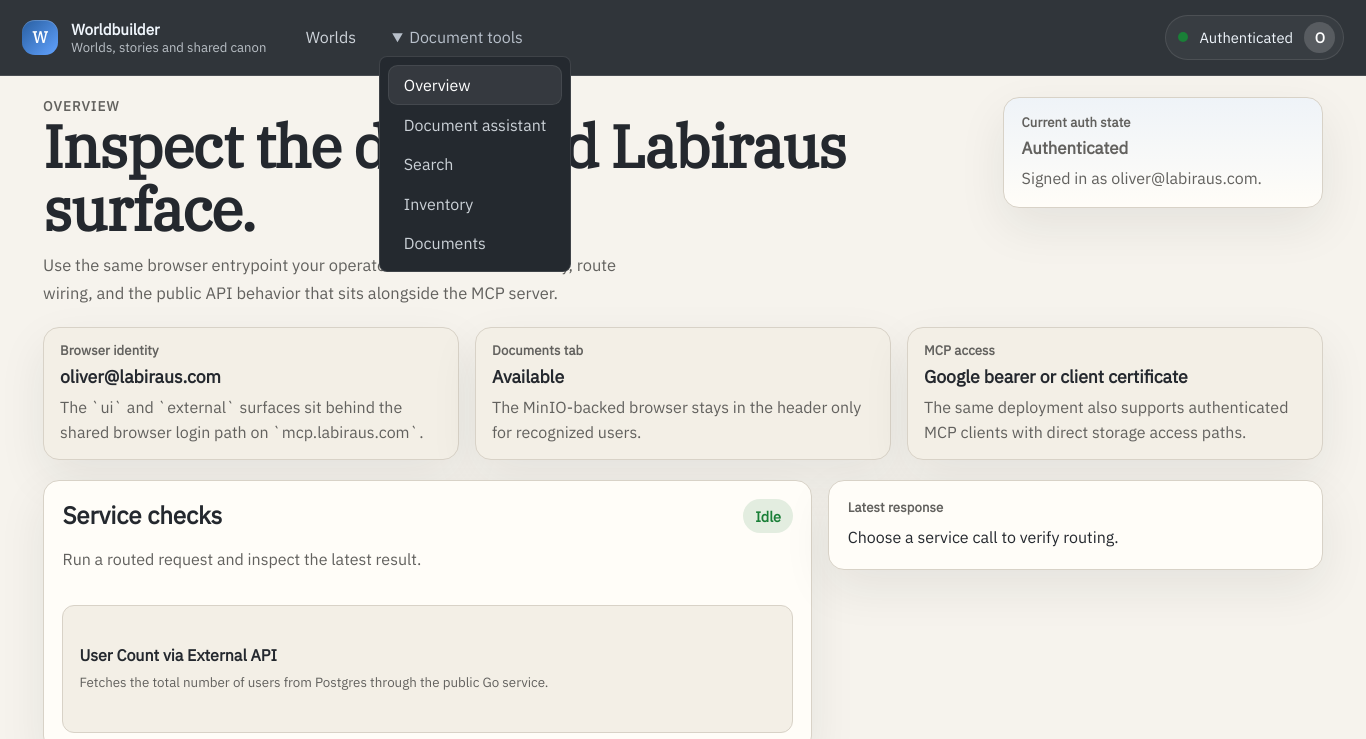
App › rejects an assistant file proposal with an audit reason
The image size is (1366, 739).
Click the button "Document assistant" at (475, 125), box [388,105,562,144]
(page scrolled)
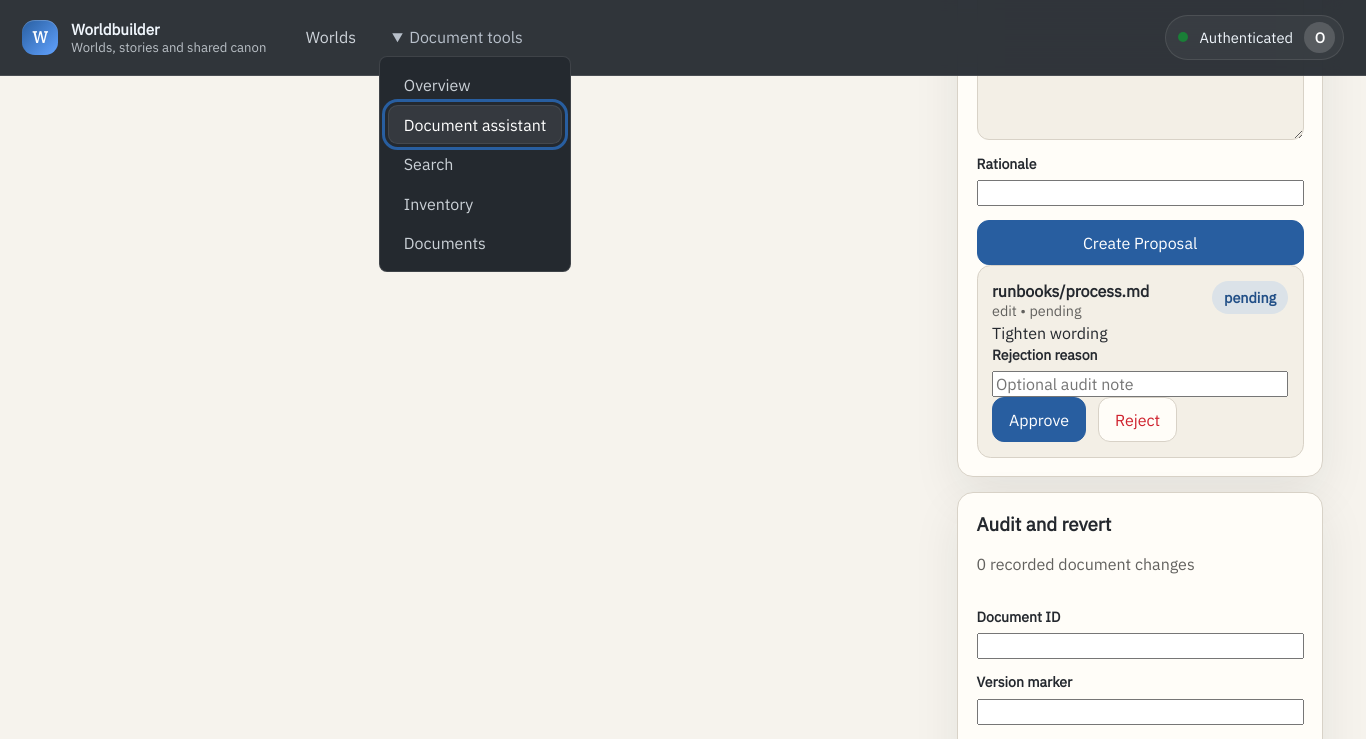
Expected: the text "Tighten wording" is shown, [992,323,1108,343]
Type "needs source context" into the field named "rejection reason for runbooks/process.md" at (1140, 384), box [992,371,1288,397]
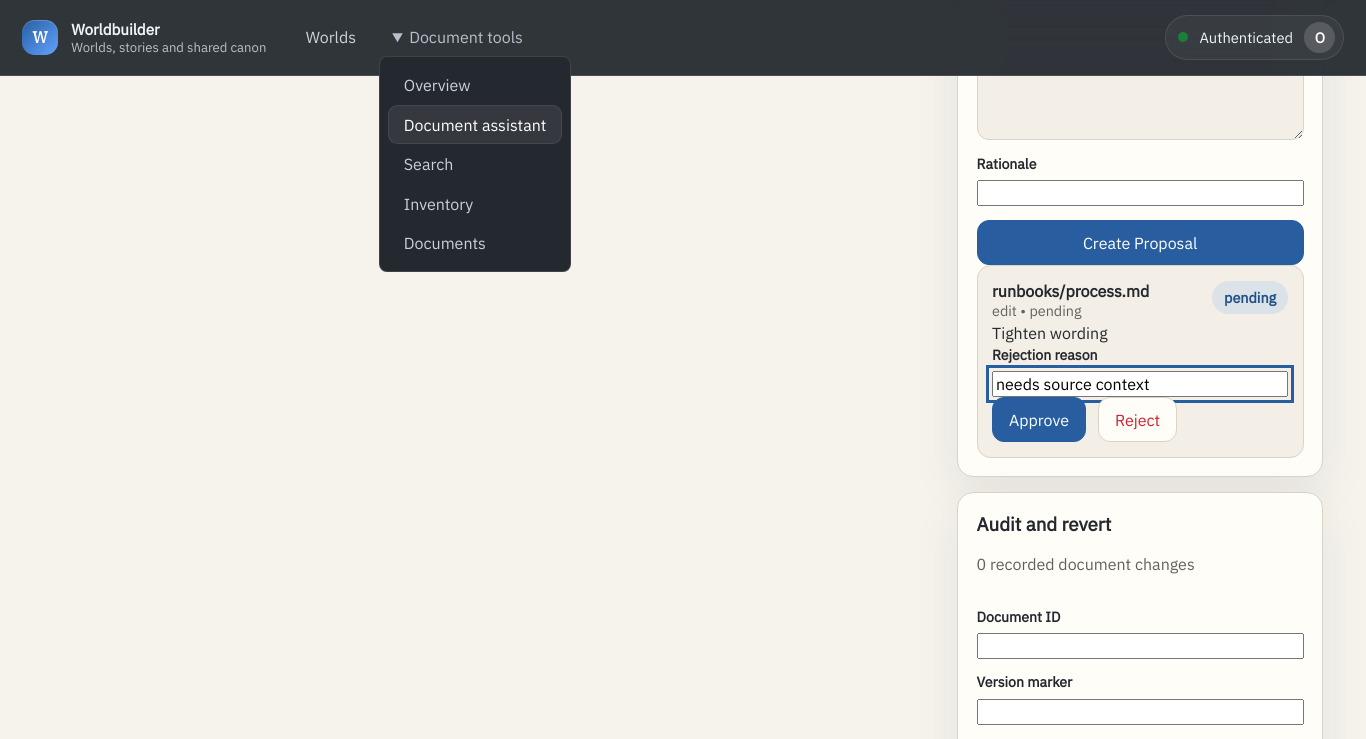
Click the button "Reject" at (1138, 420), box [1098,397,1177,442]
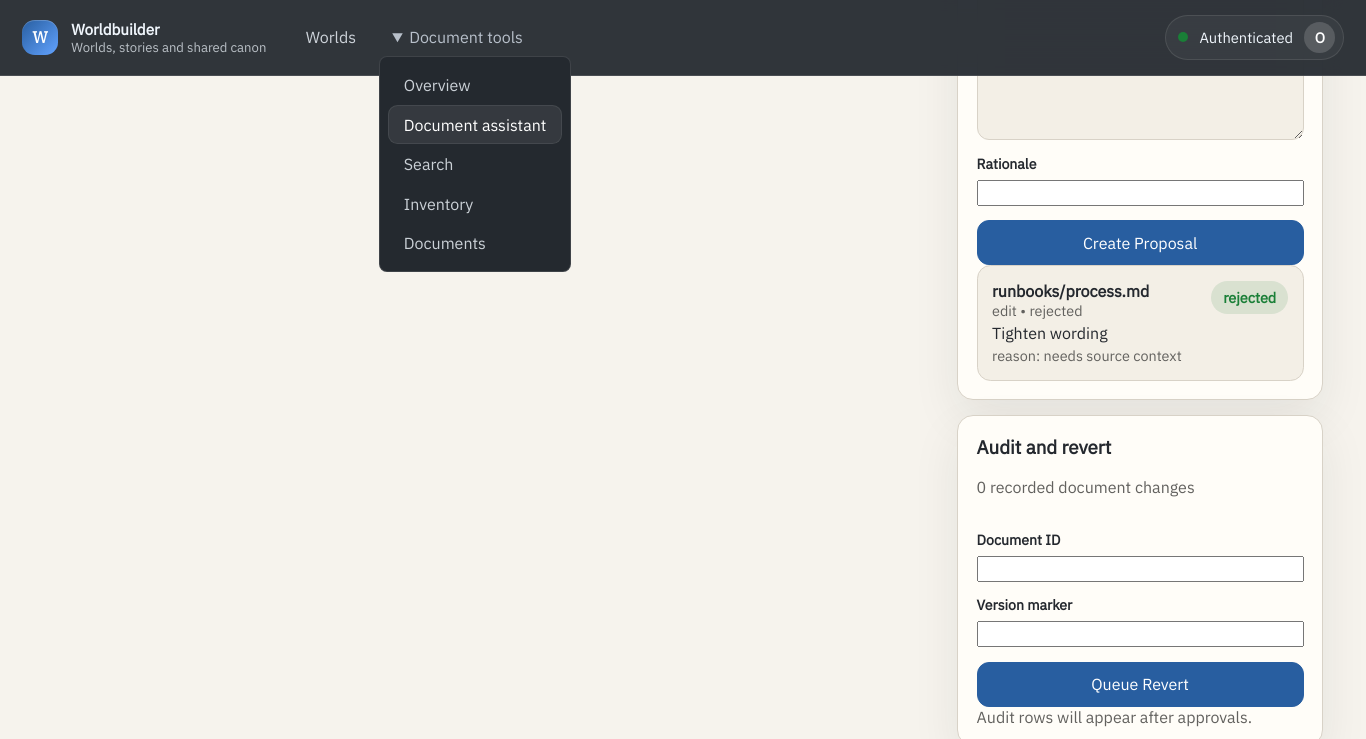
Expected: the text "rejected" is shown, [1211,281,1288,314]
Expected: the text "reason: needs source context" is shown, [992,346,1182,365]
